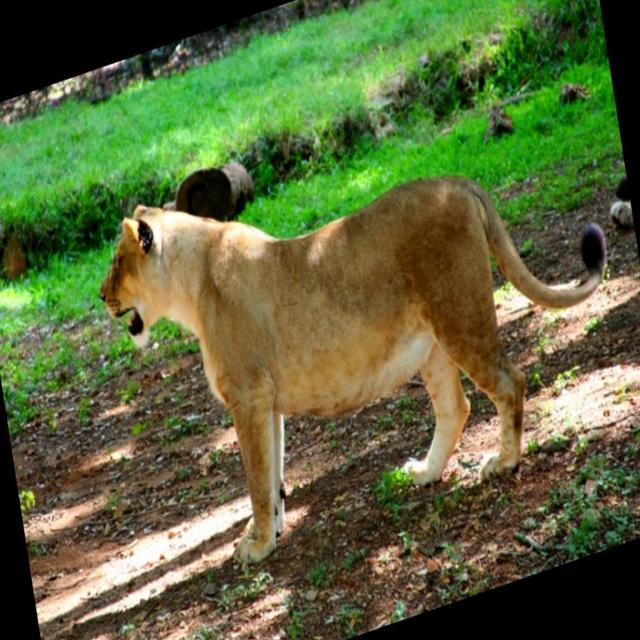Lion: (86, 53, 635, 604)
